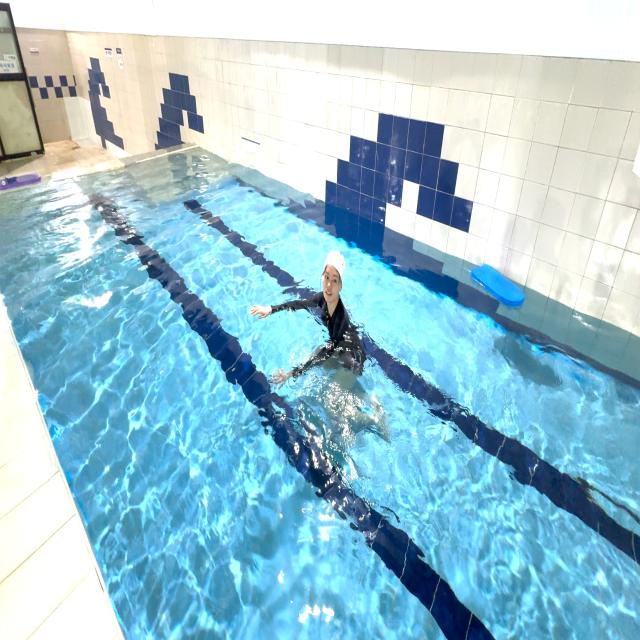Swimming: (242, 219, 406, 482)
